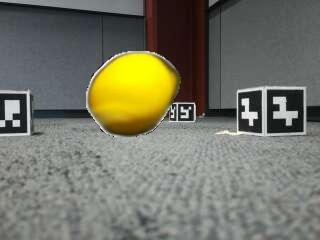lemon: (88, 54, 179, 136)
